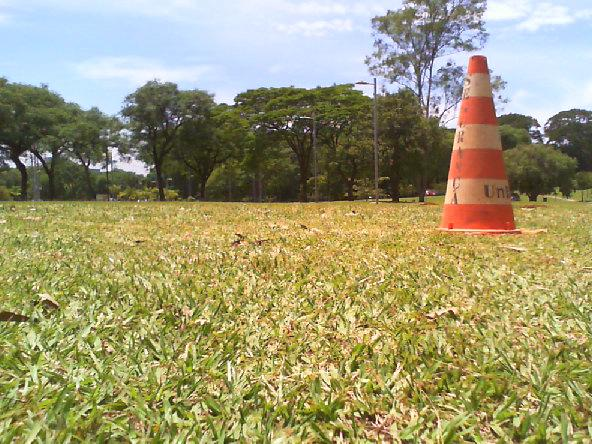0 cone: (434, 54, 547, 234)
